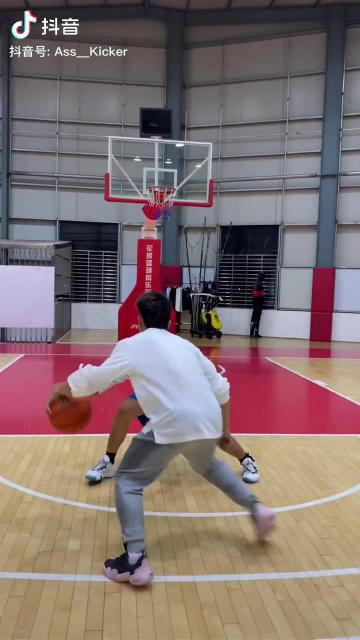ball: (48, 394, 94, 434)
basket: (146, 182, 176, 214)
